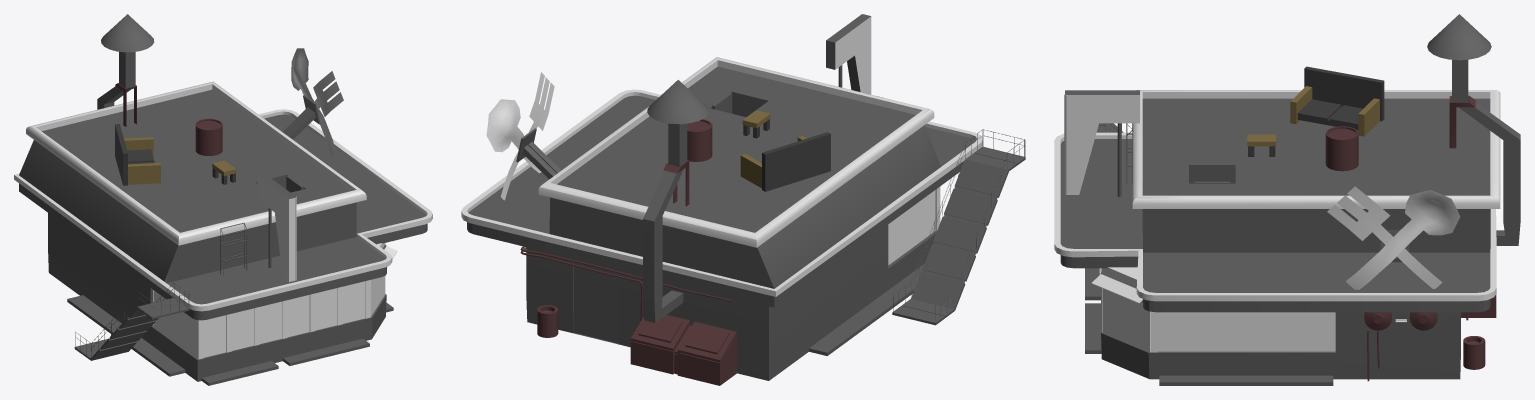
Rendered from 03_Canteen_Retro.fbx.
3 views of the same model, side by side, from view 1: azimuth 30°, elevation 25°; view 2: azimuth 150°, elevation 25°; view 3: azimuth 270°, elevation 25° (orthographic). The views are drawn at different scales.
Visible parts, largest first — view 1: Cube.097; view 2: Cube.097; view 3: Cube.097.
Part boxes in pixels (bbox=[...]): Cube.097: bbox=[14, 14, 432, 385]; Cube.097: bbox=[461, 14, 1025, 385]; Cube.097: bbox=[1054, 14, 1520, 385].
Size of the model in its own units: 38.74 by 28.27 by 41.32.
